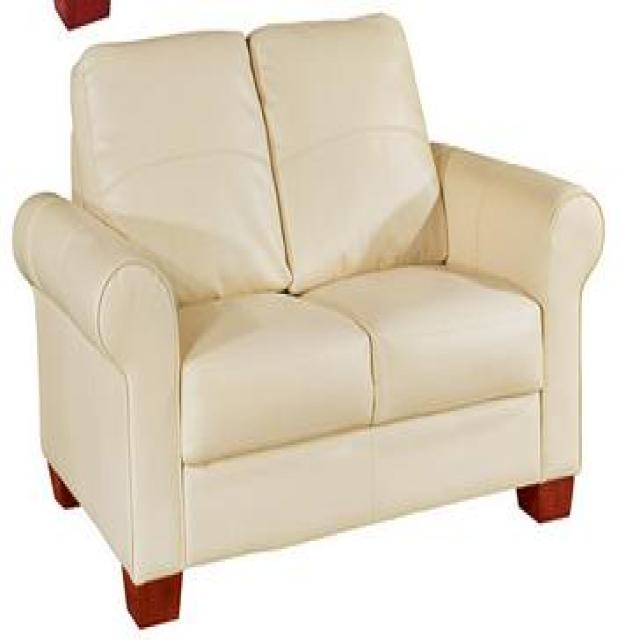sofa: (9, 6, 606, 637)
